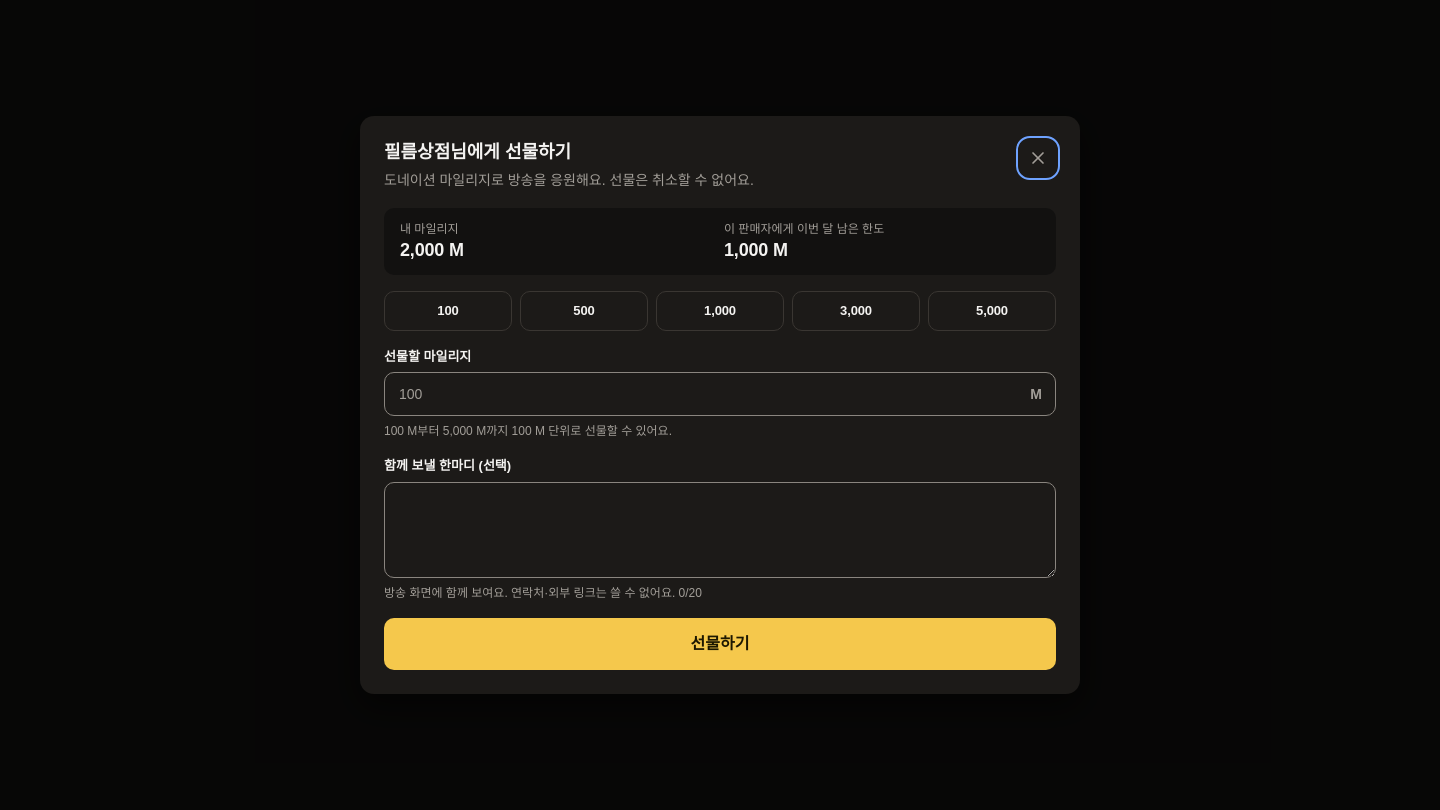
Test: DonationDialog › 서버가 거절하면 이유를 보여 준다
Click the button "100".
click(448, 311)  # box [384,291,512,331]
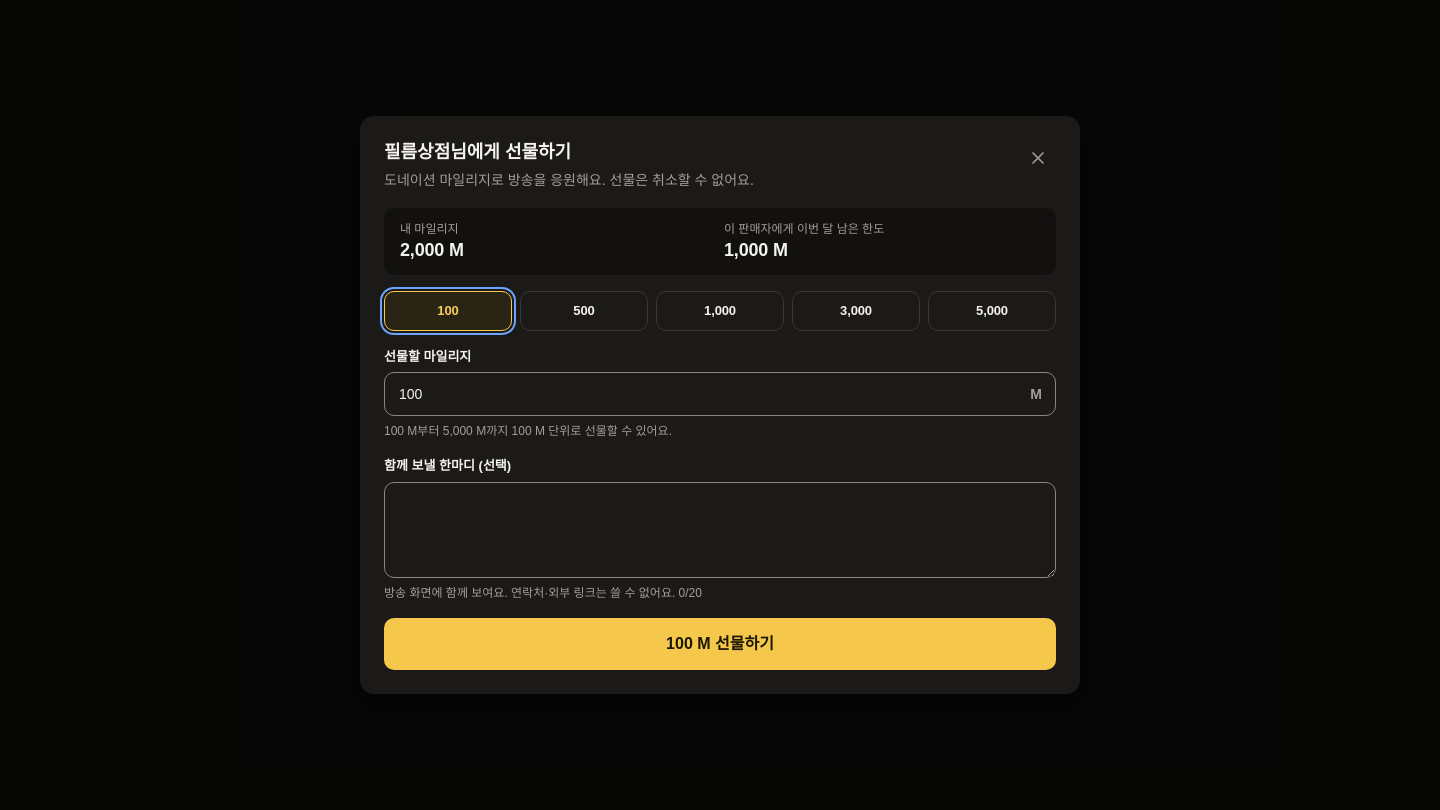
Click the button "100 M 선물하기".
click(720, 644)  # box [384,618,1056,670]
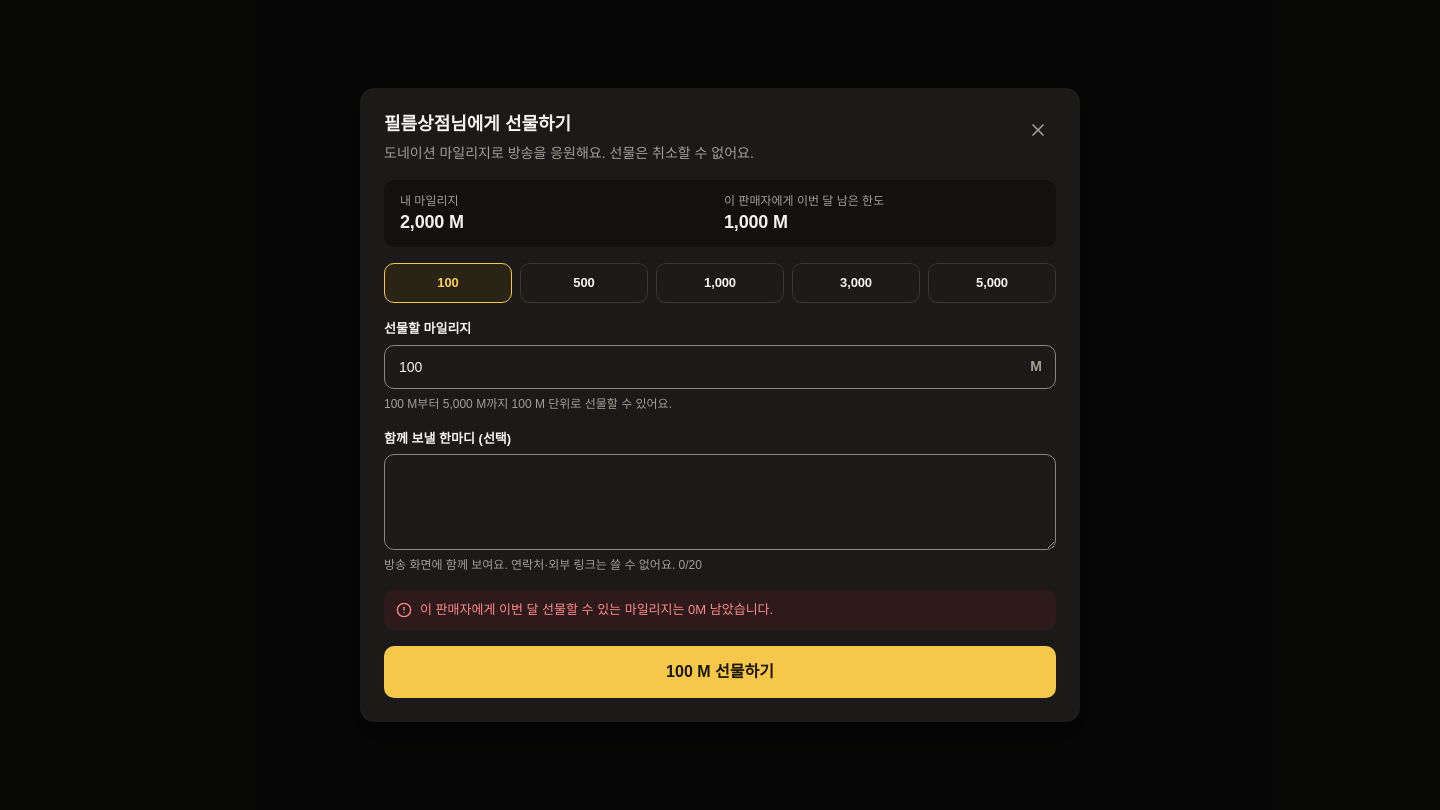
expect the text "이 판매자에게 이번 달 선물할 수 있는 마일리지는 0M 남았습니다." is shown: met, box [420,600,773,620]
